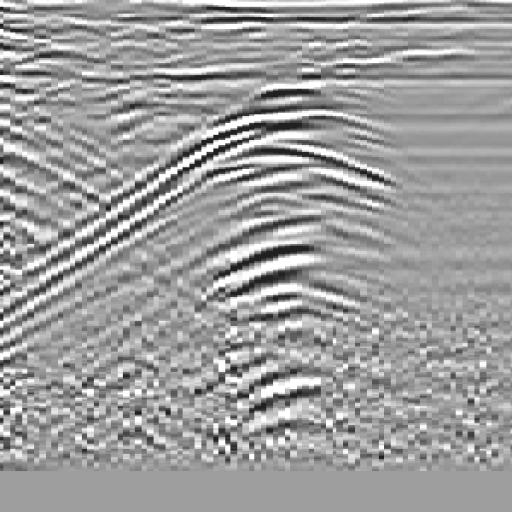metalic: (124, 97, 428, 405)
